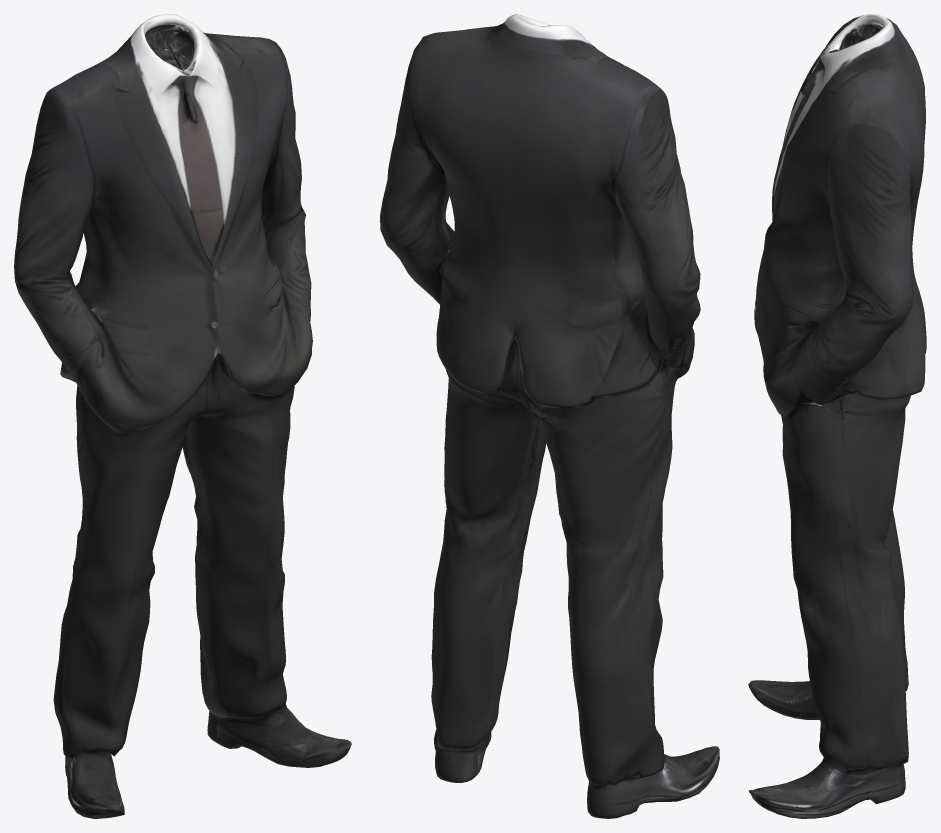
The model's file is 6d07feec-d156-45bc-b4cb-3c170e31ae25_suit.glb.
3 views of the same model, side by side, from view 1: azimuth 30°, elevation 25°; view 2: azimuth 150°, elevation 25°; view 3: azimuth 270°, elevation 25° (orthographic). The views are drawn at different scales.
Size of the model in its own units: 0.8141 by 1.99 by 0.4373.
Materials: 1 (1 with a texture image).
